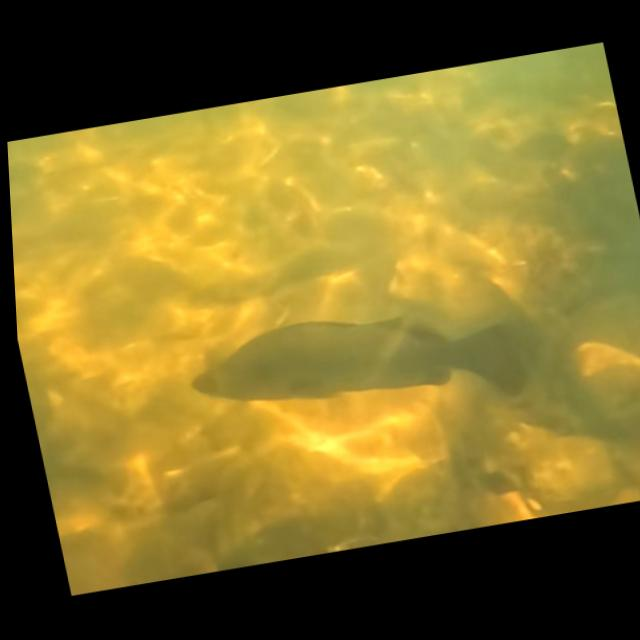Seabass: (174, 286, 530, 444)
